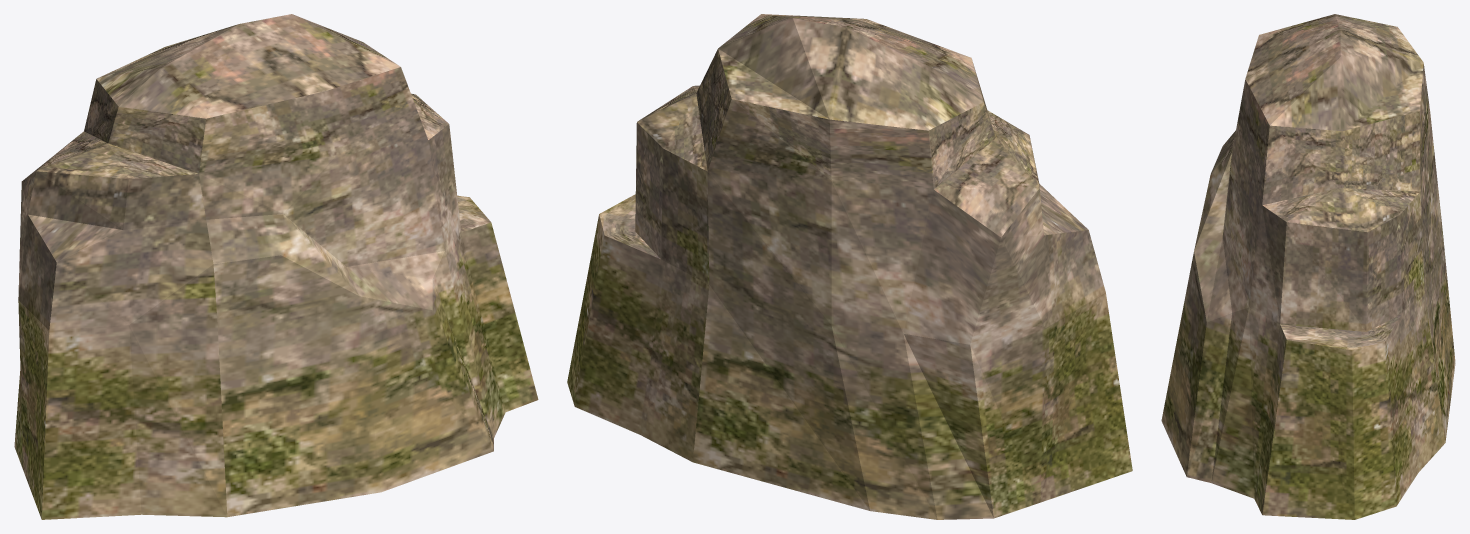
File: town_mountain_a__11___1_18.fbx
The picture shows the model from 3 angles, left to right: view 1: azimuth 30°, elevation 25°; view 2: azimuth 150°, elevation 25°; view 3: azimuth 270°, elevation 25°; orthographic projection. The views are drawn at different scales.
Parts seen in each view (by area): view 1: town_mountain_a__11___1_18; view 2: town_mountain_a__11___1_18; view 3: town_mountain_a__11___1_18.
Part boxes in pixels (x1,y1,x2,y2): town_mountain_a__11___1_18: (14, 14, 538, 519); town_mountain_a__11___1_18: (567, 14, 1132, 519); town_mountain_a__11___1_18: (1161, 14, 1455, 519).
Size of the model in its own units: 40.54 by 31.17 by 22.39.
